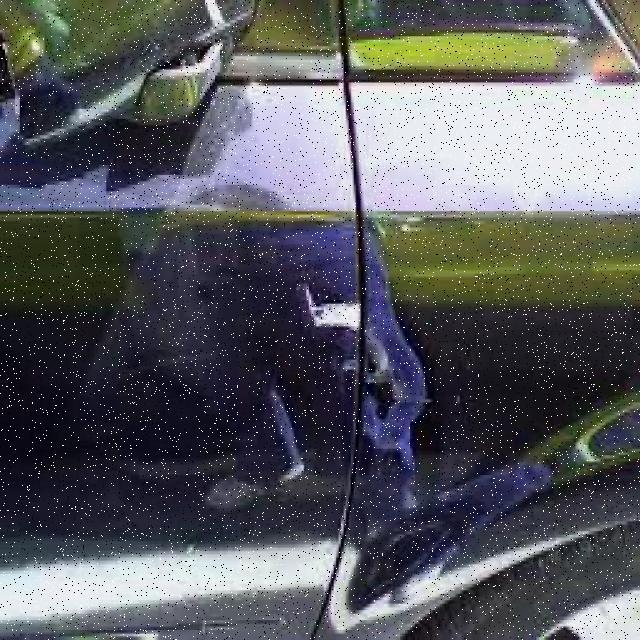car damage: (291, 202, 411, 448)
